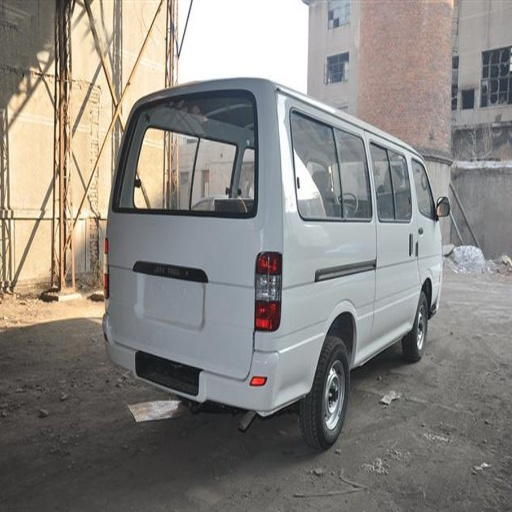back_bumper: (107, 322, 323, 414)
back_glass: (138, 139, 250, 215), (145, 94, 254, 143)
back_right_door: (288, 102, 339, 218)
trunk: (113, 214, 401, 376)
